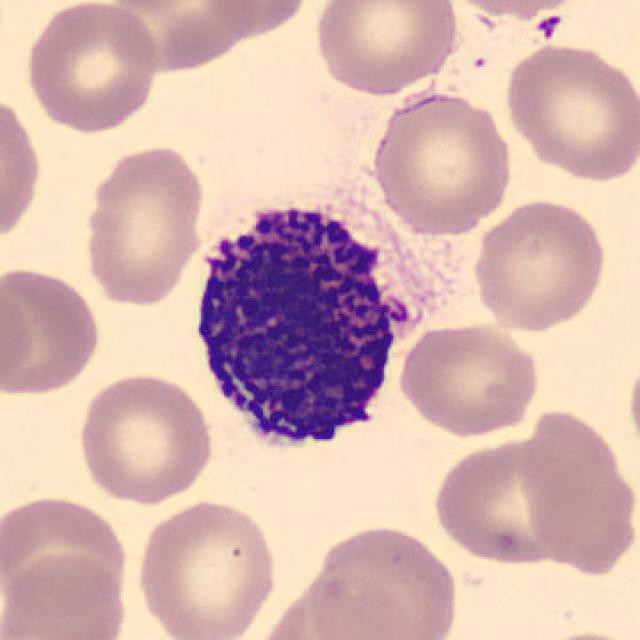Basophil: (182, 183, 436, 471)
Platelets: (534, 14, 564, 41)
RBC: (425, 423, 627, 585), (367, 88, 518, 236), (78, 141, 208, 309), (133, 495, 281, 640), (73, 368, 217, 508), (502, 39, 638, 183), (469, 196, 610, 333), (21, 0, 162, 136), (304, 520, 462, 640), (395, 319, 544, 439), (0, 488, 132, 610), (311, 0, 462, 97), (0, 261, 105, 398), (0, 548, 132, 640), (97, 0, 251, 73), (0, 88, 44, 252), (0, 263, 37, 395), (199, 0, 317, 37), (437, 0, 587, 18), (626, 342, 640, 473), (526, 627, 638, 640)
